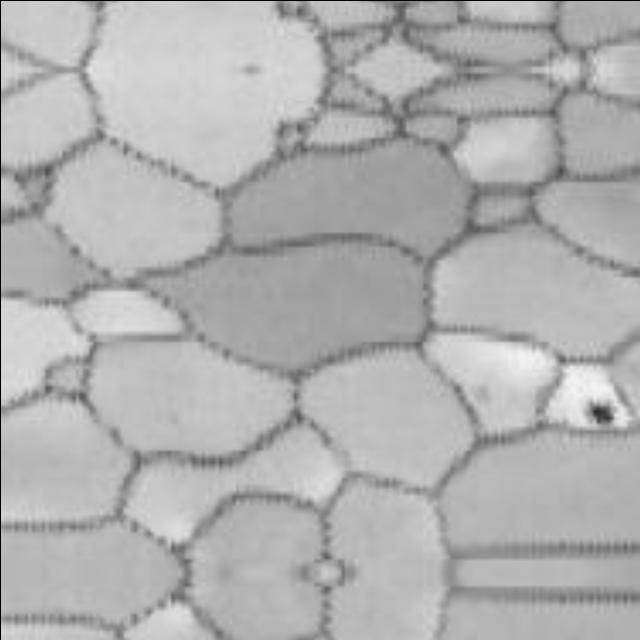good_void: (577, 392, 619, 428)
